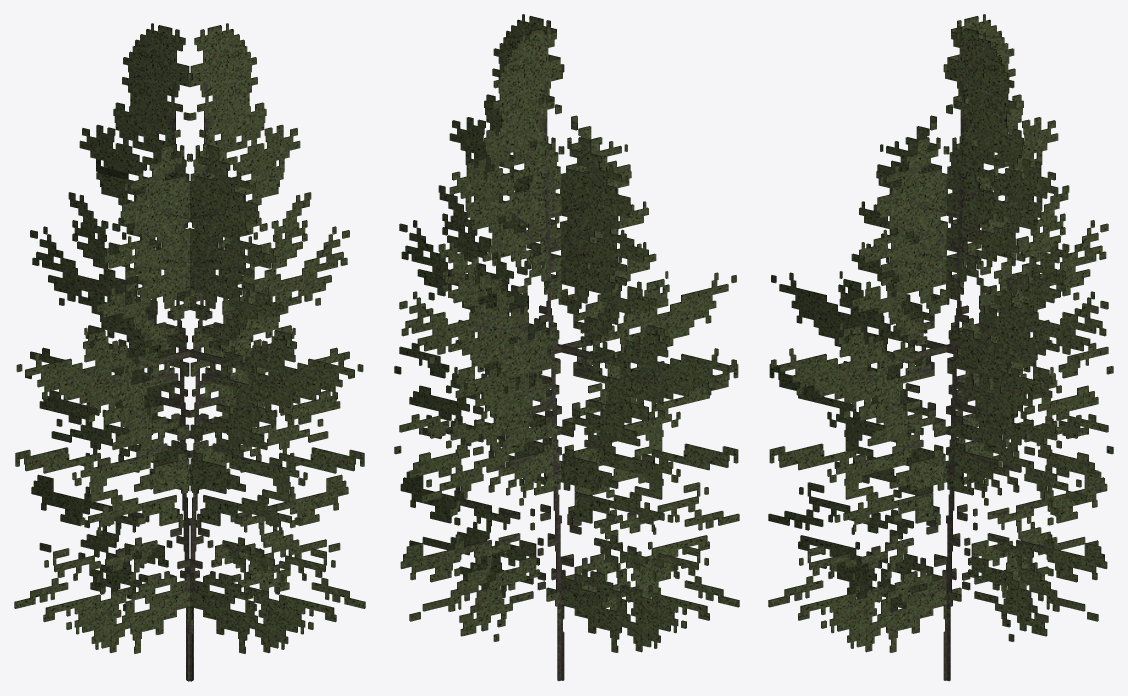
The model's file is impostor-fir-a-near.glb.
3 views of the same model, side by side, from view 1: azimuth 30°, elevation 25°; view 2: azimuth 150°, elevation 25°; view 3: azimuth 270°, elevation 25° (orthographic).
Size of the model in its own units: 4.67 by 8.51 by 4.05.
1 material, 1 textured.
